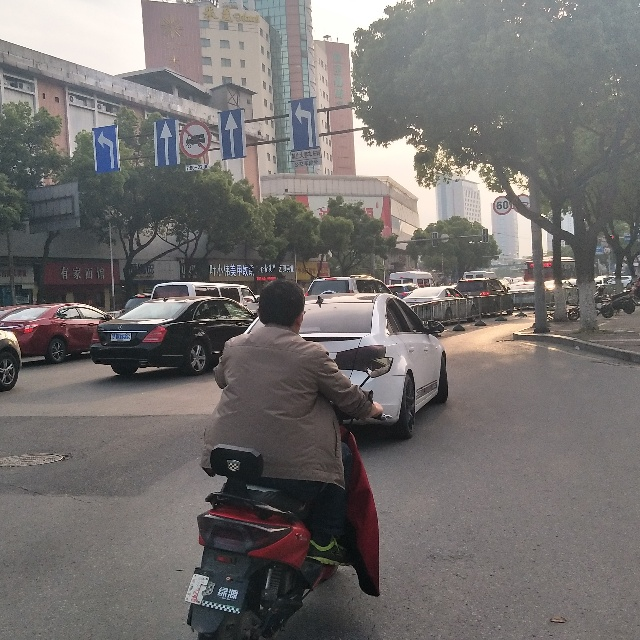left: (288, 92, 322, 152), (93, 122, 122, 172)
straight: (218, 106, 248, 161), (154, 118, 184, 170)
